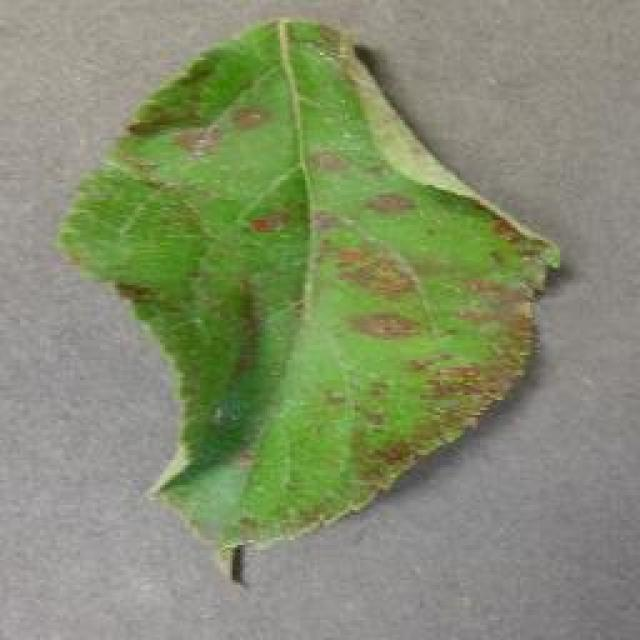apple rust disease: (55, 15, 563, 583)
